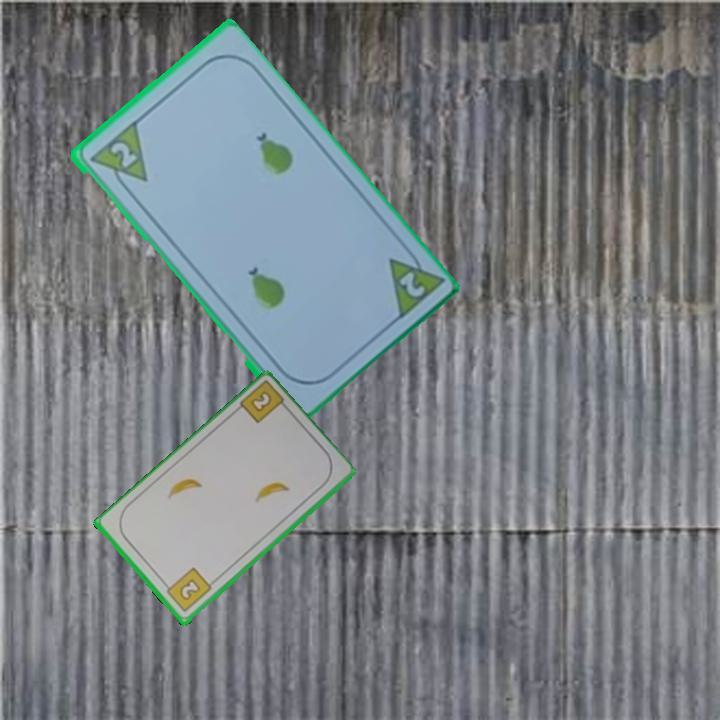2b: (161, 564, 214, 615), (247, 388, 275, 415)
2p: (394, 267, 428, 301), (106, 138, 140, 171)
